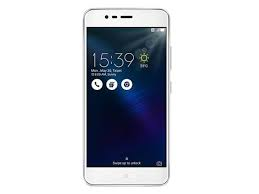asus: (80, 7, 171, 188)
